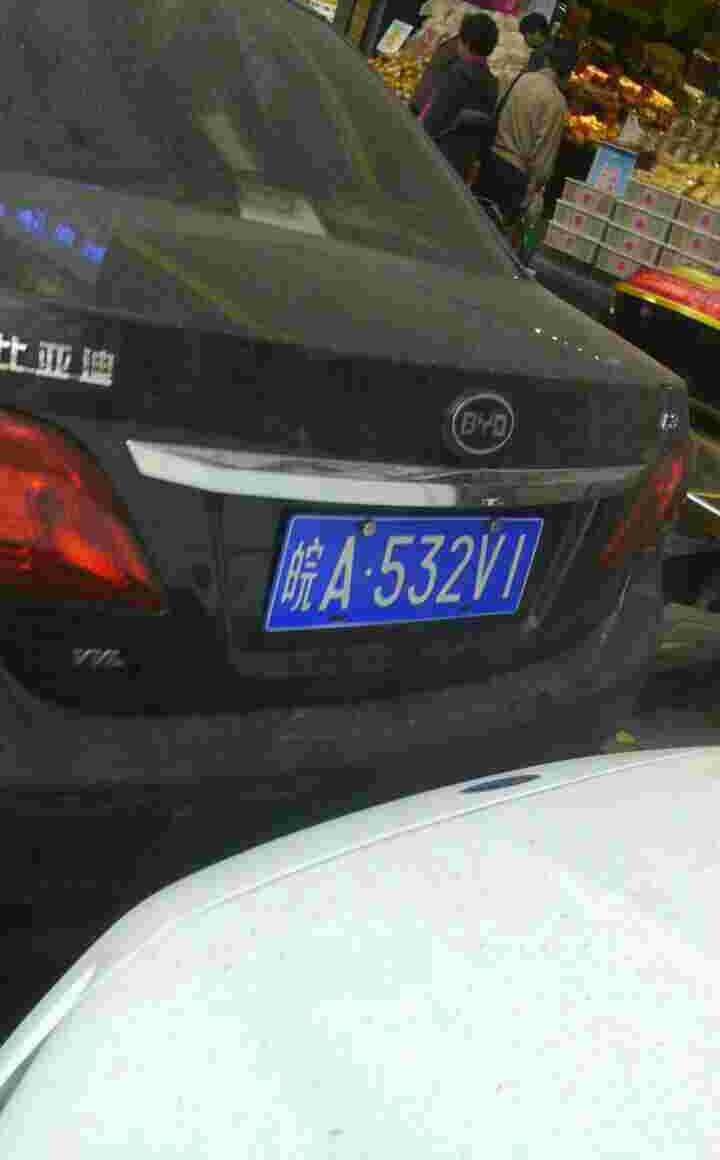license_plate: (270, 507, 540, 643)
